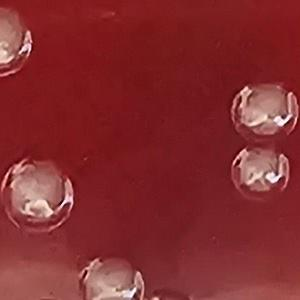colony: (0, 153, 78, 237), (225, 80, 300, 148), (227, 141, 295, 204), (76, 254, 147, 300), (0, 0, 40, 79)
